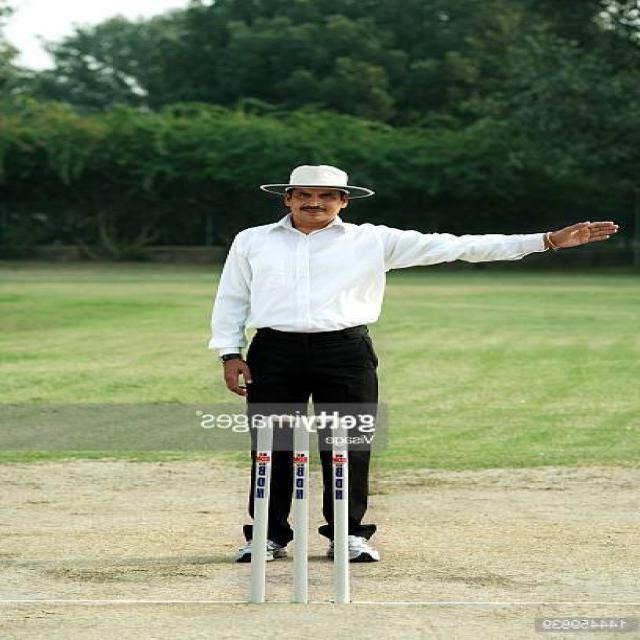No_Ball: (210, 161, 621, 570)
